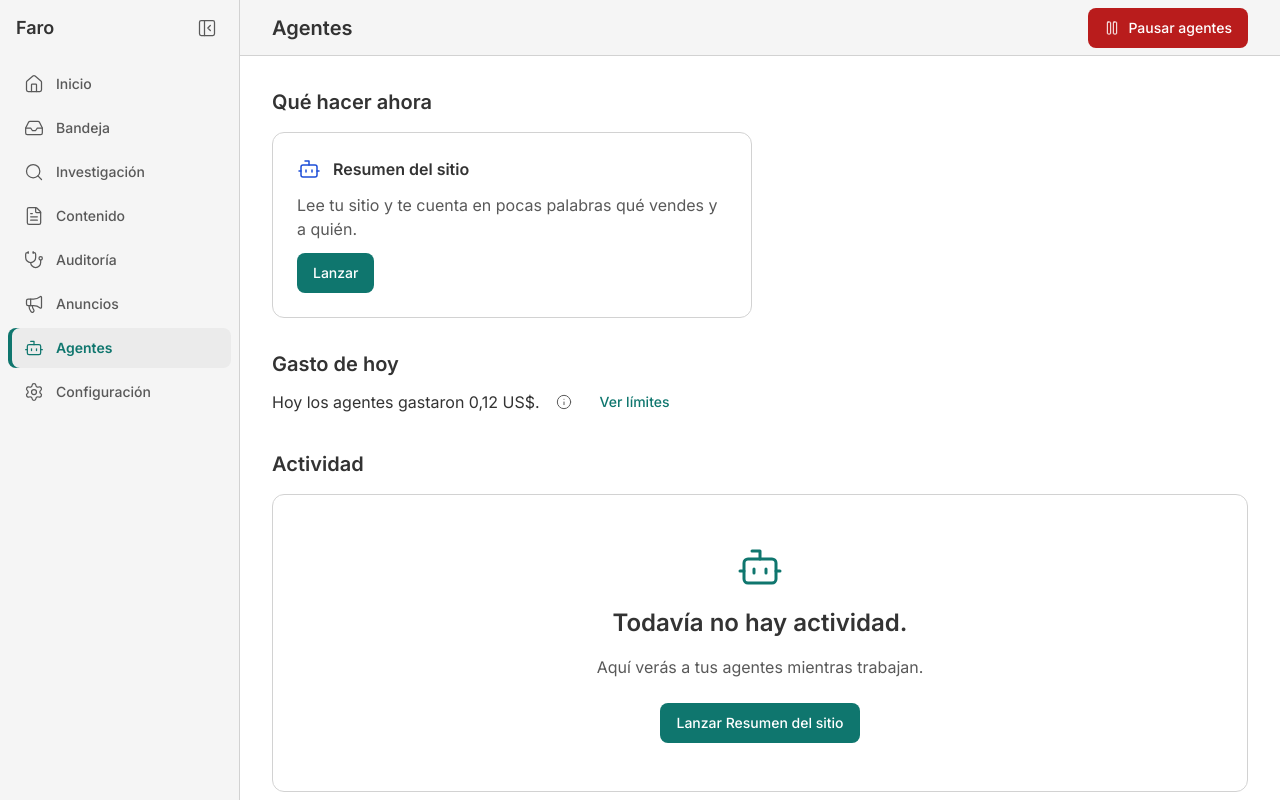
Agentes: catálogo (qué hacer ahora) › con sitio y clave: tarjeta del Resumen del sitio con Lanzar
This screenshot has width=1280, height=800.
Check: the text "Lee tu sitio y te cuenta en pocas palabras qué vendes y a quién." is shown, box top-left (297, 193), bottom-right (727, 241)
Click the button with aria-label "Lanzar Resumen del sitio": {"x": 336, "y": 273} top-left (297, 253), bottom-right (374, 293)
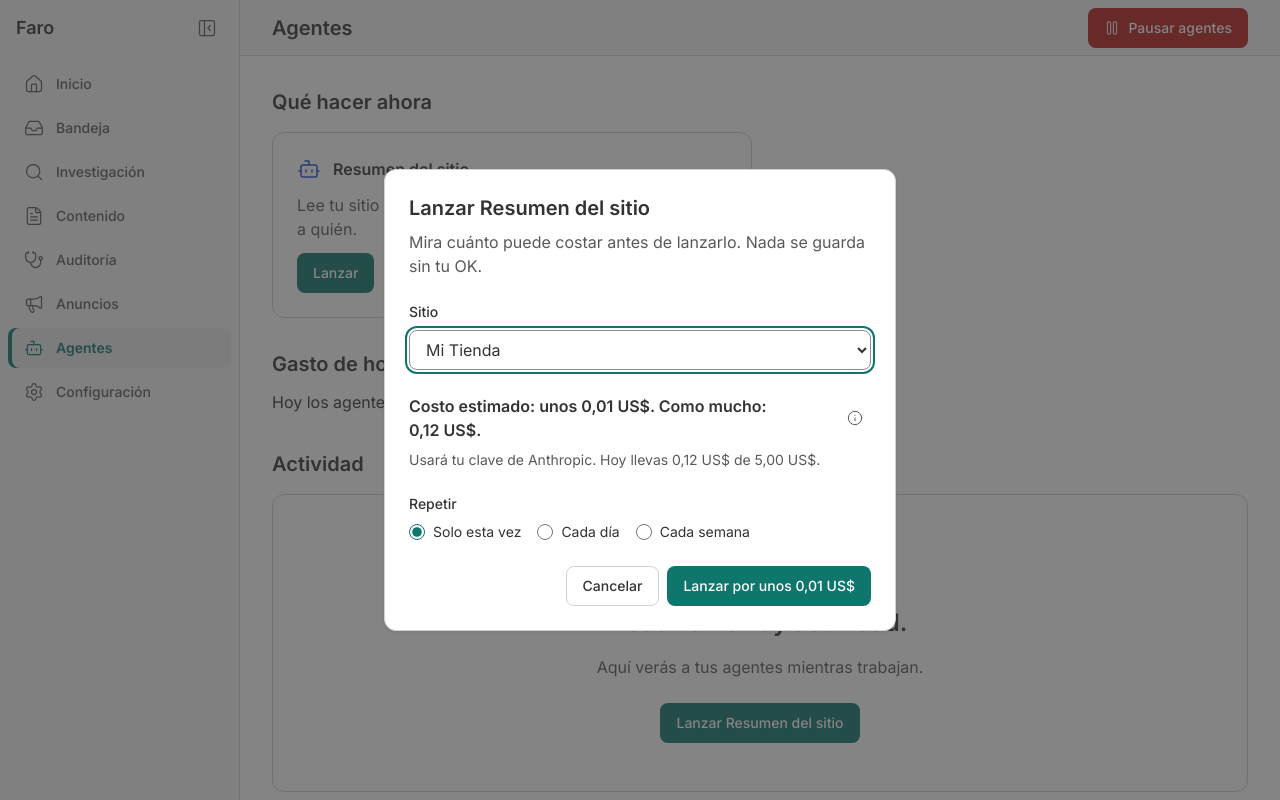
Check: the dialog "Lanzar Resumen del sitio" is shown, box top-left (384, 169), bottom-right (896, 631)
